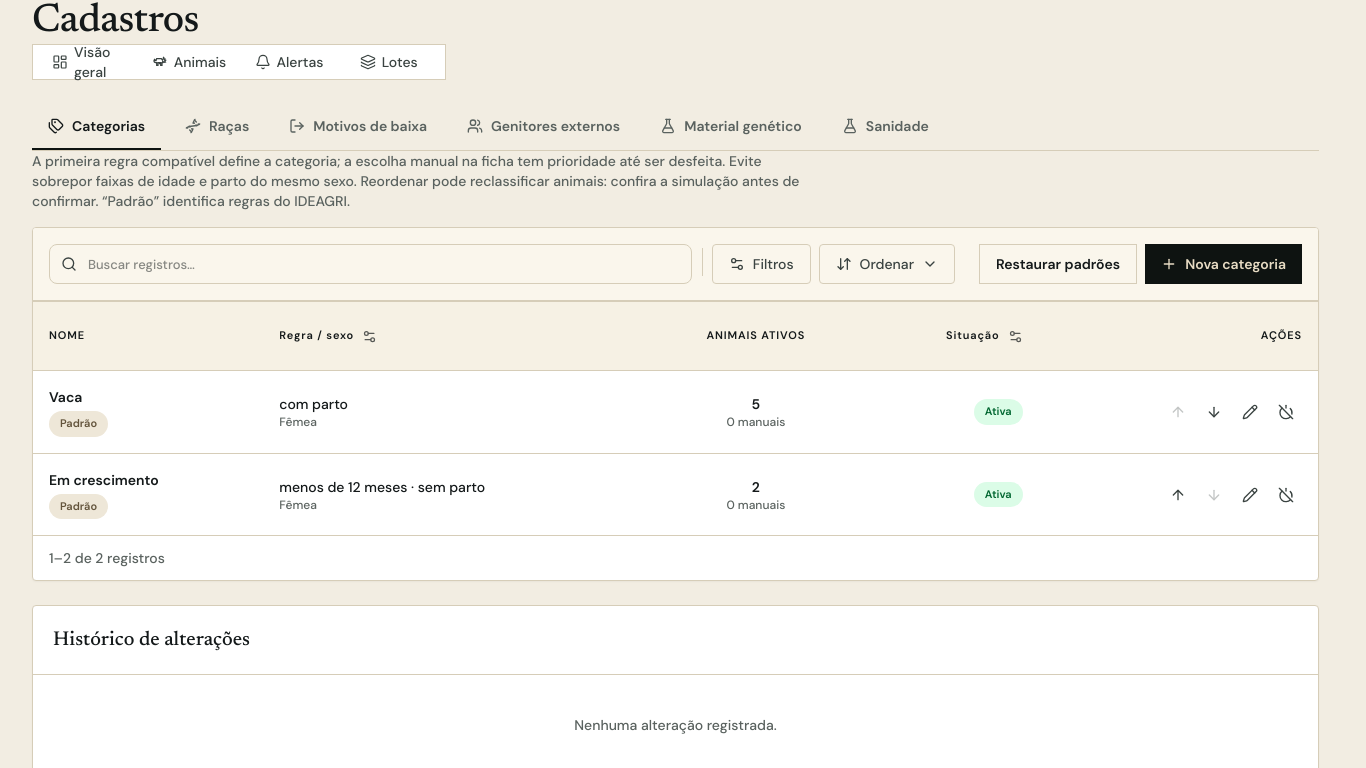
Cadastros do rebanho — categorias › idade sem limite aparece como "Sem mínimo" / "Sem máximo"
This screenshot has width=1366, height=768.
Click the button named "Editar Vaca".
click(1250, 412)  # box [1234,394,1266,430]
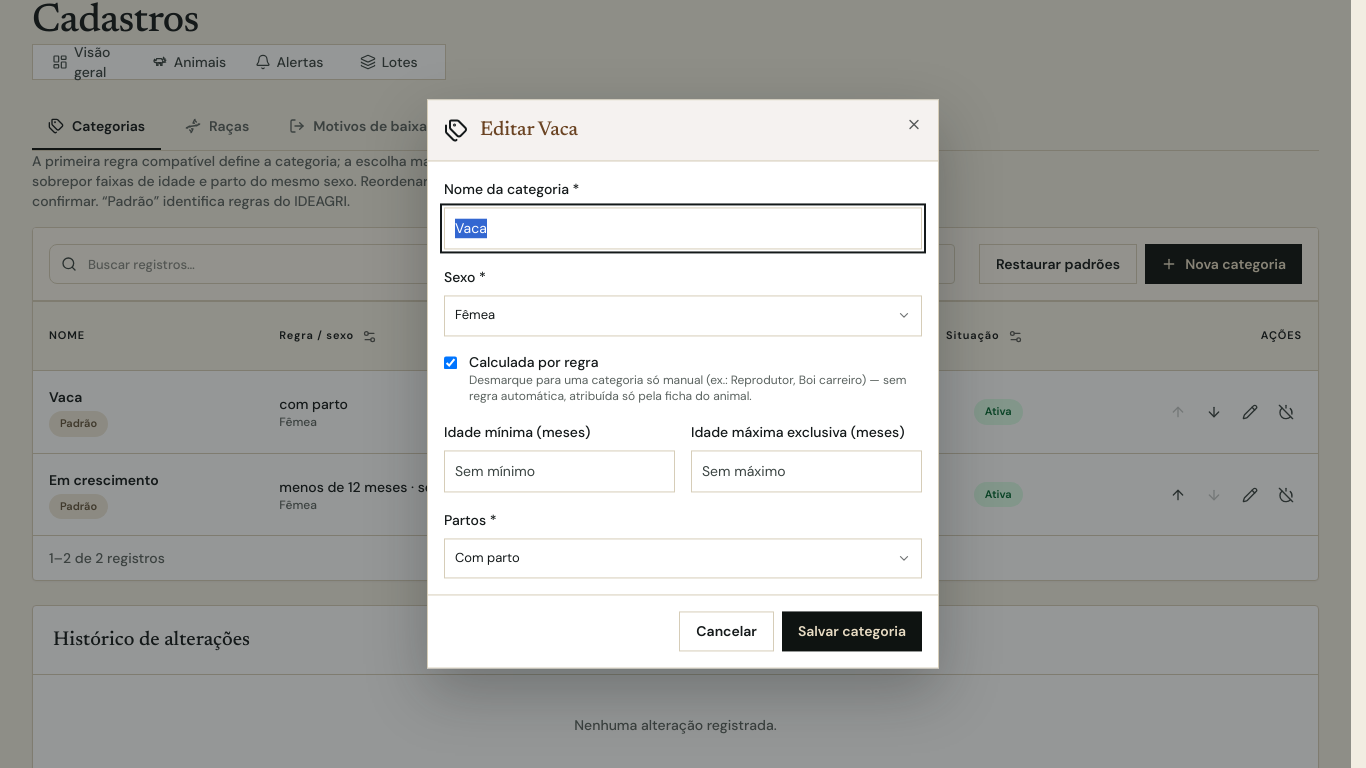
Now the number field with placeholder "Sem mínimo" is shown, box [444,450,675,492]
Now the number field with placeholder "Sem máximo" is shown, box [691,450,922,492]
